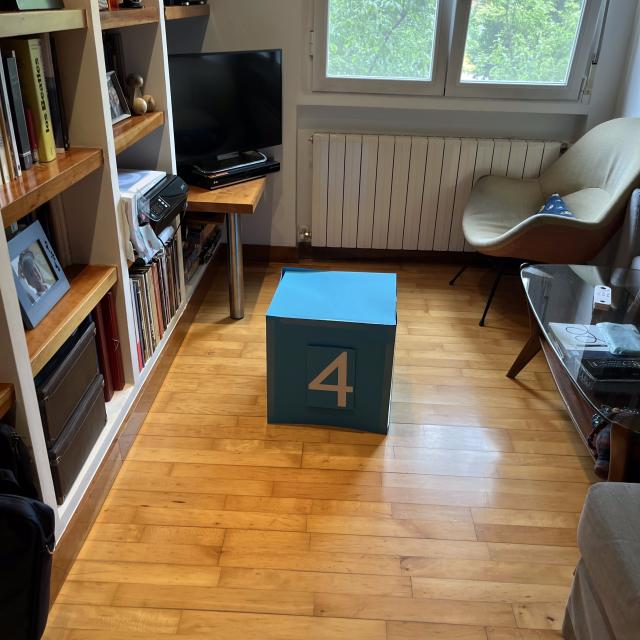box: (260, 261, 402, 437)
